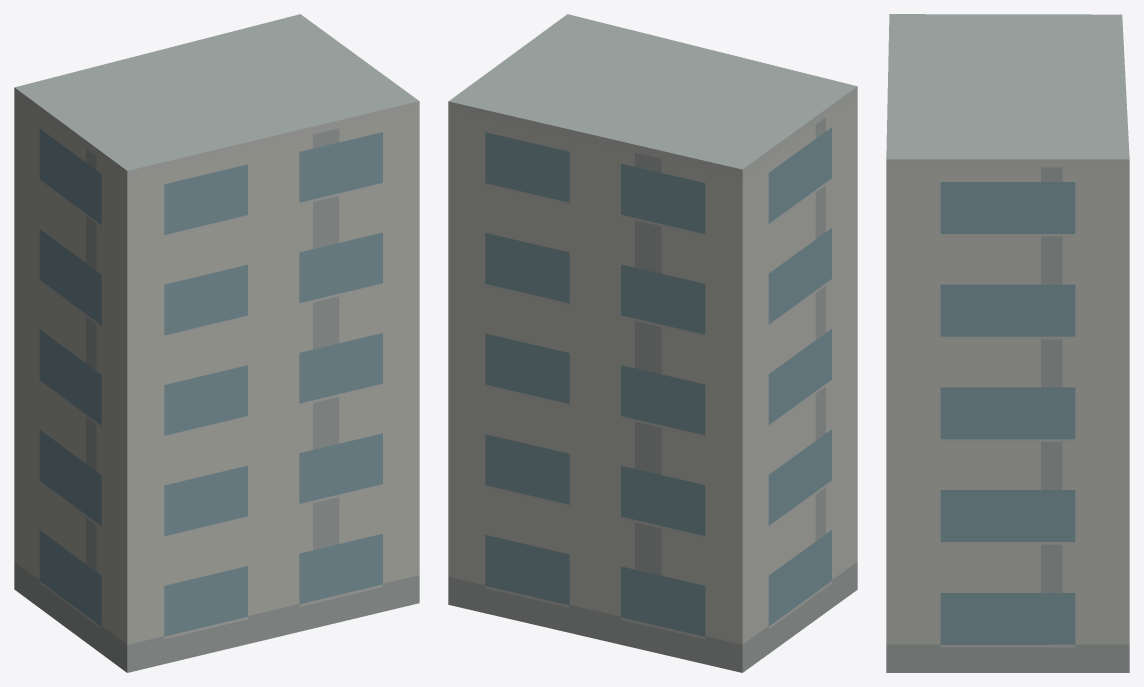
File: survey-upis-32728788.glb
3 renders of one model, left to right at view 1: azimuth 30°, elevation 25°; view 2: azimuth 150°, elevation 25°; view 3: azimuth 270°, elevation 25°, orthographic. The views are drawn at different scales.
Visible parts, largest first — view 1: survey-upis-32728788.tmp; view 2: survey-upis-32728788.tmp; view 3: survey-upis-32728788.tmp.
Boxes of the visible parts, x1=… form: survey-upis-32728788.tmp: x1=14, y1=14, x2=419, y2=672; survey-upis-32728788.tmp: x1=448, y1=14, x2=857, y2=672; survey-upis-32728788.tmp: x1=886, y1=14, x2=1129, y2=672.
Size of the model in its own units: 9.26 by 15.25 by 6.56.
